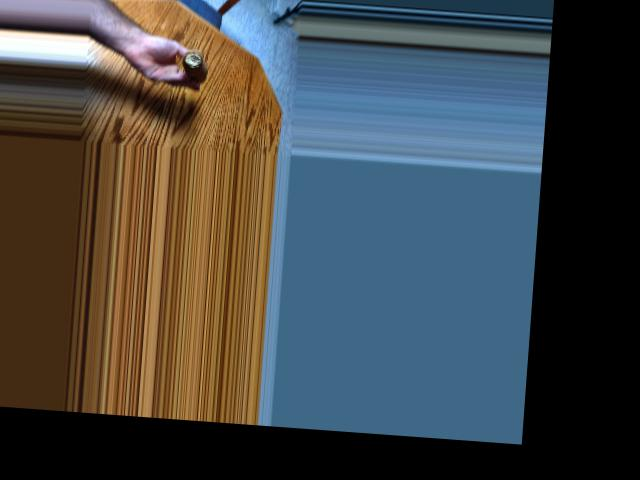sweet_potato: (172, 44, 213, 85)
